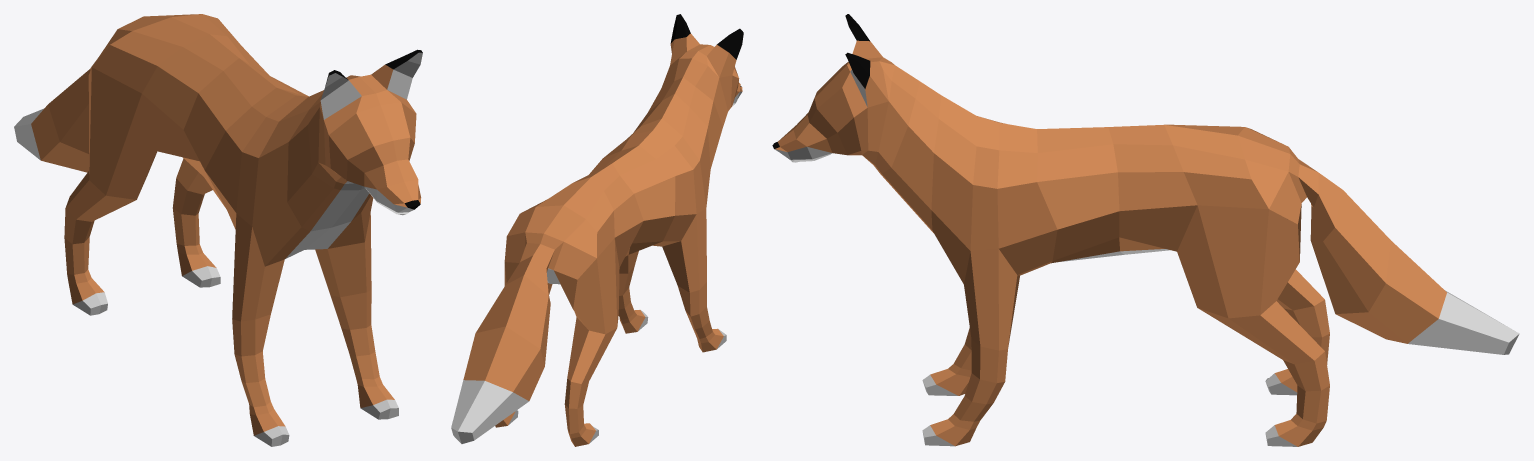
The model's file is b_fox.fbx.
3 views of the same model, side by side, from view 1: azimuth 30°, elevation 25°; view 2: azimuth 150°, elevation 25°; view 3: azimuth 270°, elevation 25° (orthographic). The views are drawn at different scales.
Visible parts, largest first — view 1: Cylinder; view 2: Cylinder; view 3: Cylinder.
Boxes of the visible parts, x1,y1,x2,y2 form: Cylinder: [14, 14, 422, 446]; Cylinder: [451, 14, 743, 446]; Cylinder: [772, 14, 1519, 446].
Size of the model in its own units: 31 by 85 by 150.
